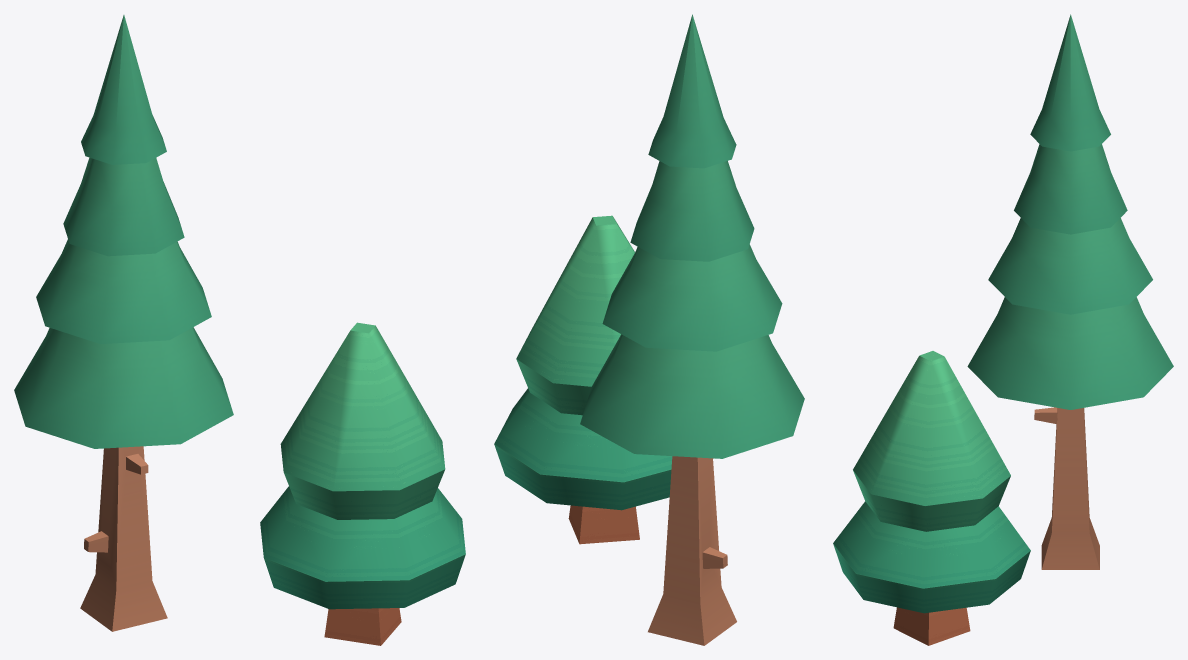
The model's file is pines.glb.
The picture shows the model from 3 angles, left to right: view 1: azimuth 30°, elevation 25°; view 2: azimuth 150°, elevation 25°; view 3: azimuth 270°, elevation 25°; orthographic projection. The views are drawn at different scales.
Parts seen in each view (by area): view 1: pines; view 2: pines; view 3: pines.
Part boxes in pixels (x1,y1,x2,y2): pines: (14, 15, 465, 645); pines: (494, 14, 804, 645); pines: (833, 14, 1173, 645).
Bounding box in the file's own units: 0.5906 × 0.9513 × 0.5406.
Materials: 2 (2 with a texture image).
